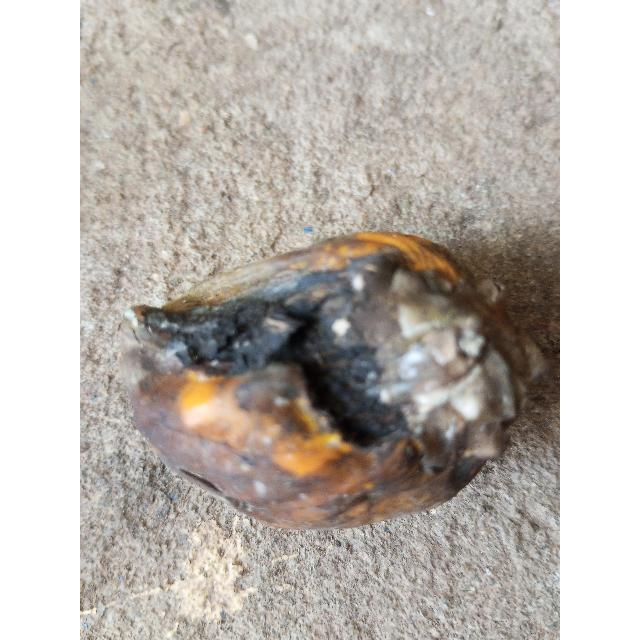damaged: (123, 231, 543, 533)
